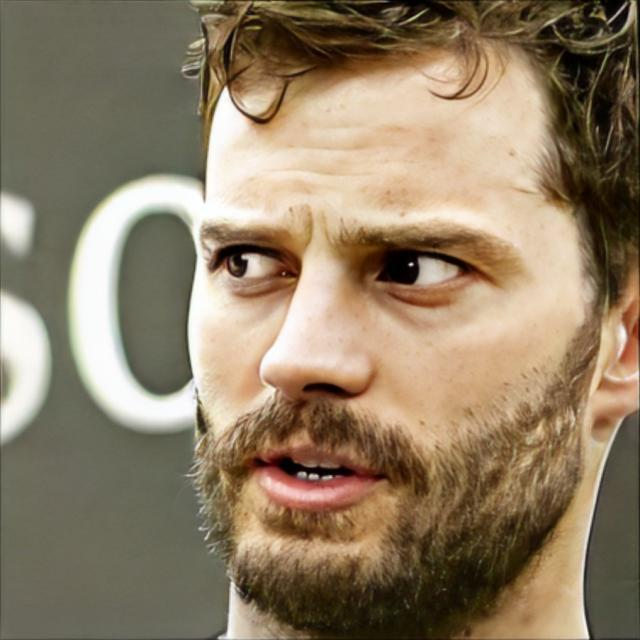fear: (186, 22, 602, 640)
